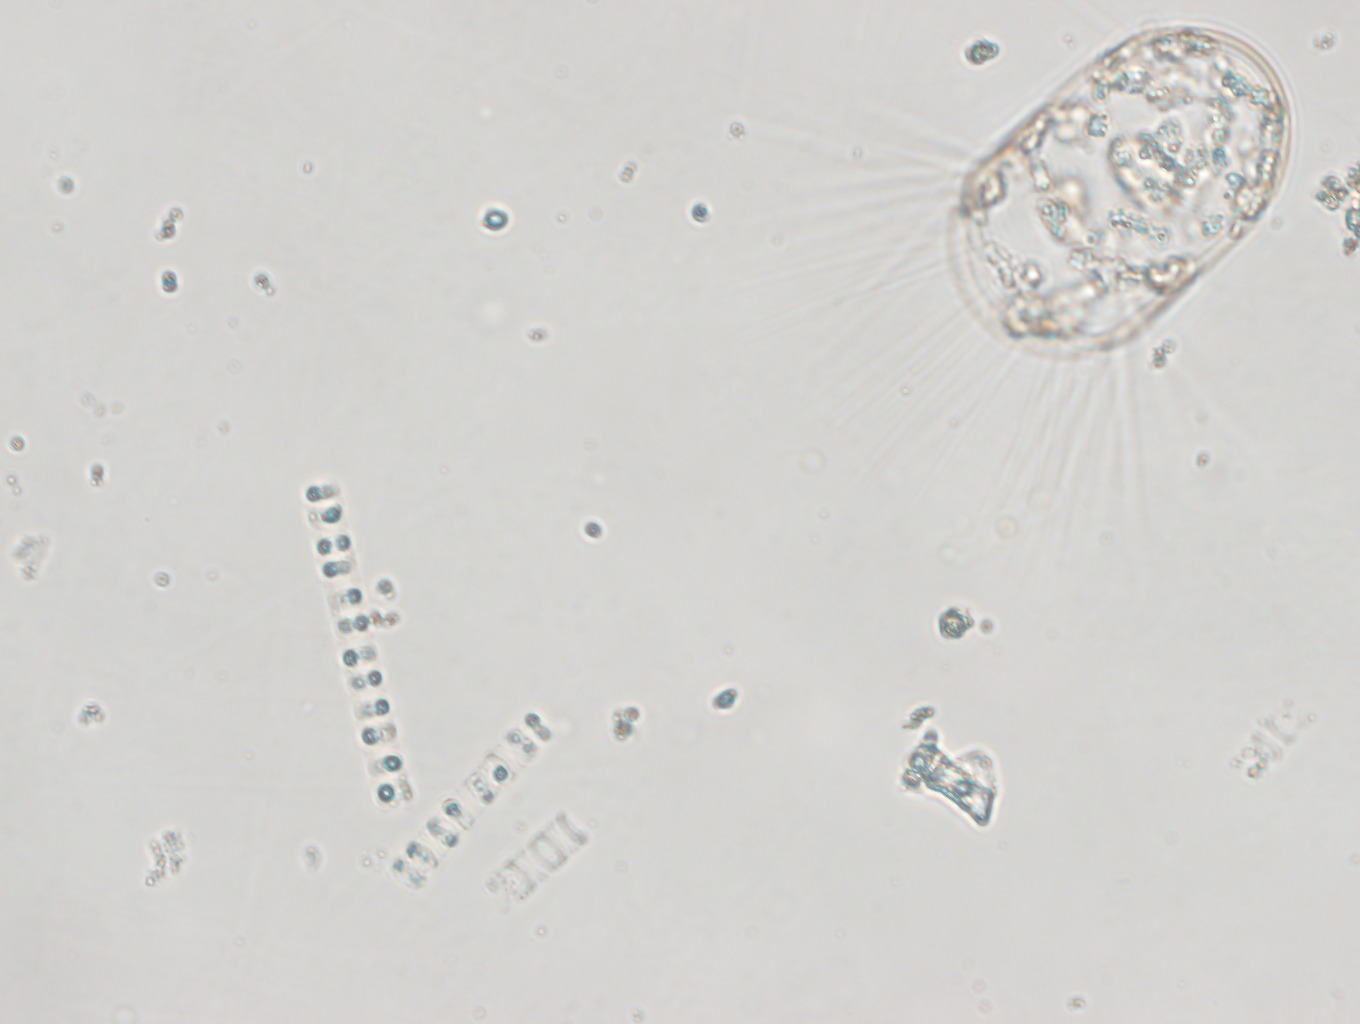corethron: (763, 17, 1298, 541)
skeletonema: (301, 478, 418, 807), (386, 703, 556, 888)
